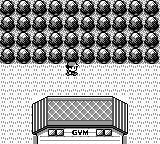main: (66, 62, 79, 75)
no-caminable: (1, 0, 159, 64), (33, 96, 127, 143)
